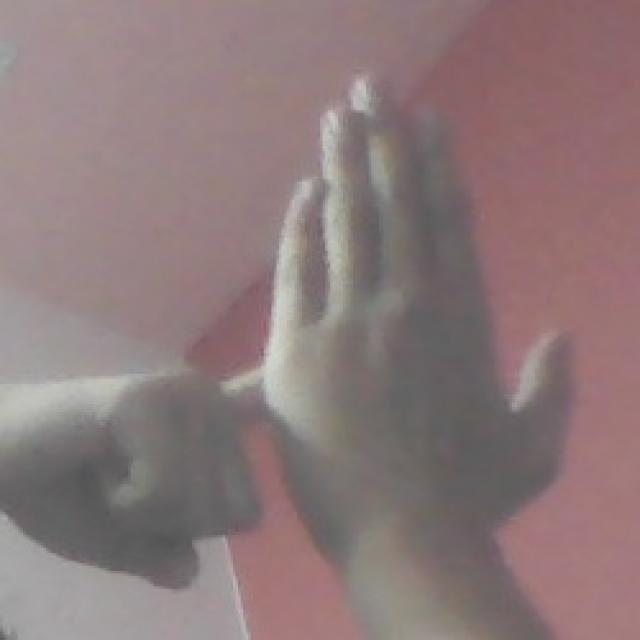Alphabet-R: (28, 64, 602, 604)
